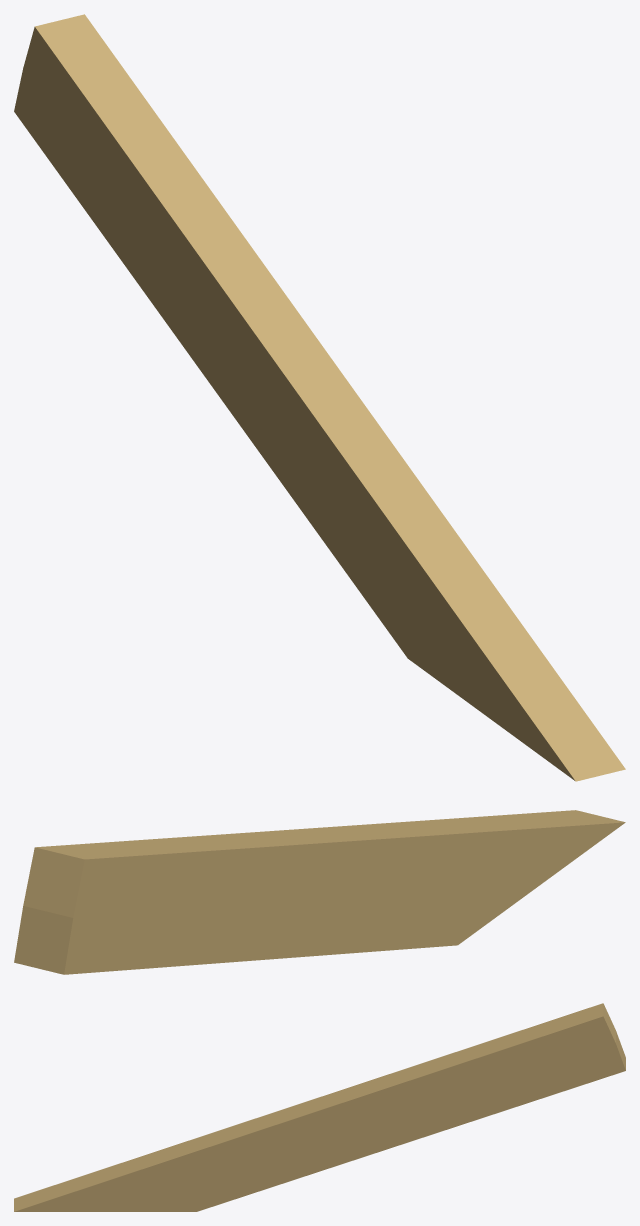
3 renders of one model, top to bottom at view 1: azimuth 30°, elevation 25°; view 2: azimuth 150°, elevation 25°; view 3: azimuth 270°, elevation 25°, orthographic. The views are drawn at different scales.
Parts seen in each view (by area): view 1: L1-3-S7-322-M07; view 2: L1-3-S7-322-M07; view 3: L1-3-S7-322-M07.
Boxes of the visible parts, <box> form: L1-3-S7-322-M07: <box>14,14,625,781</box>; L1-3-S7-322-M07: <box>14,810,625,974</box>; L1-3-S7-322-M07: <box>14,1003,625,1211</box>.
Bounding box in the file's own units: 0.045 × 0.3085 × 0.8751.
